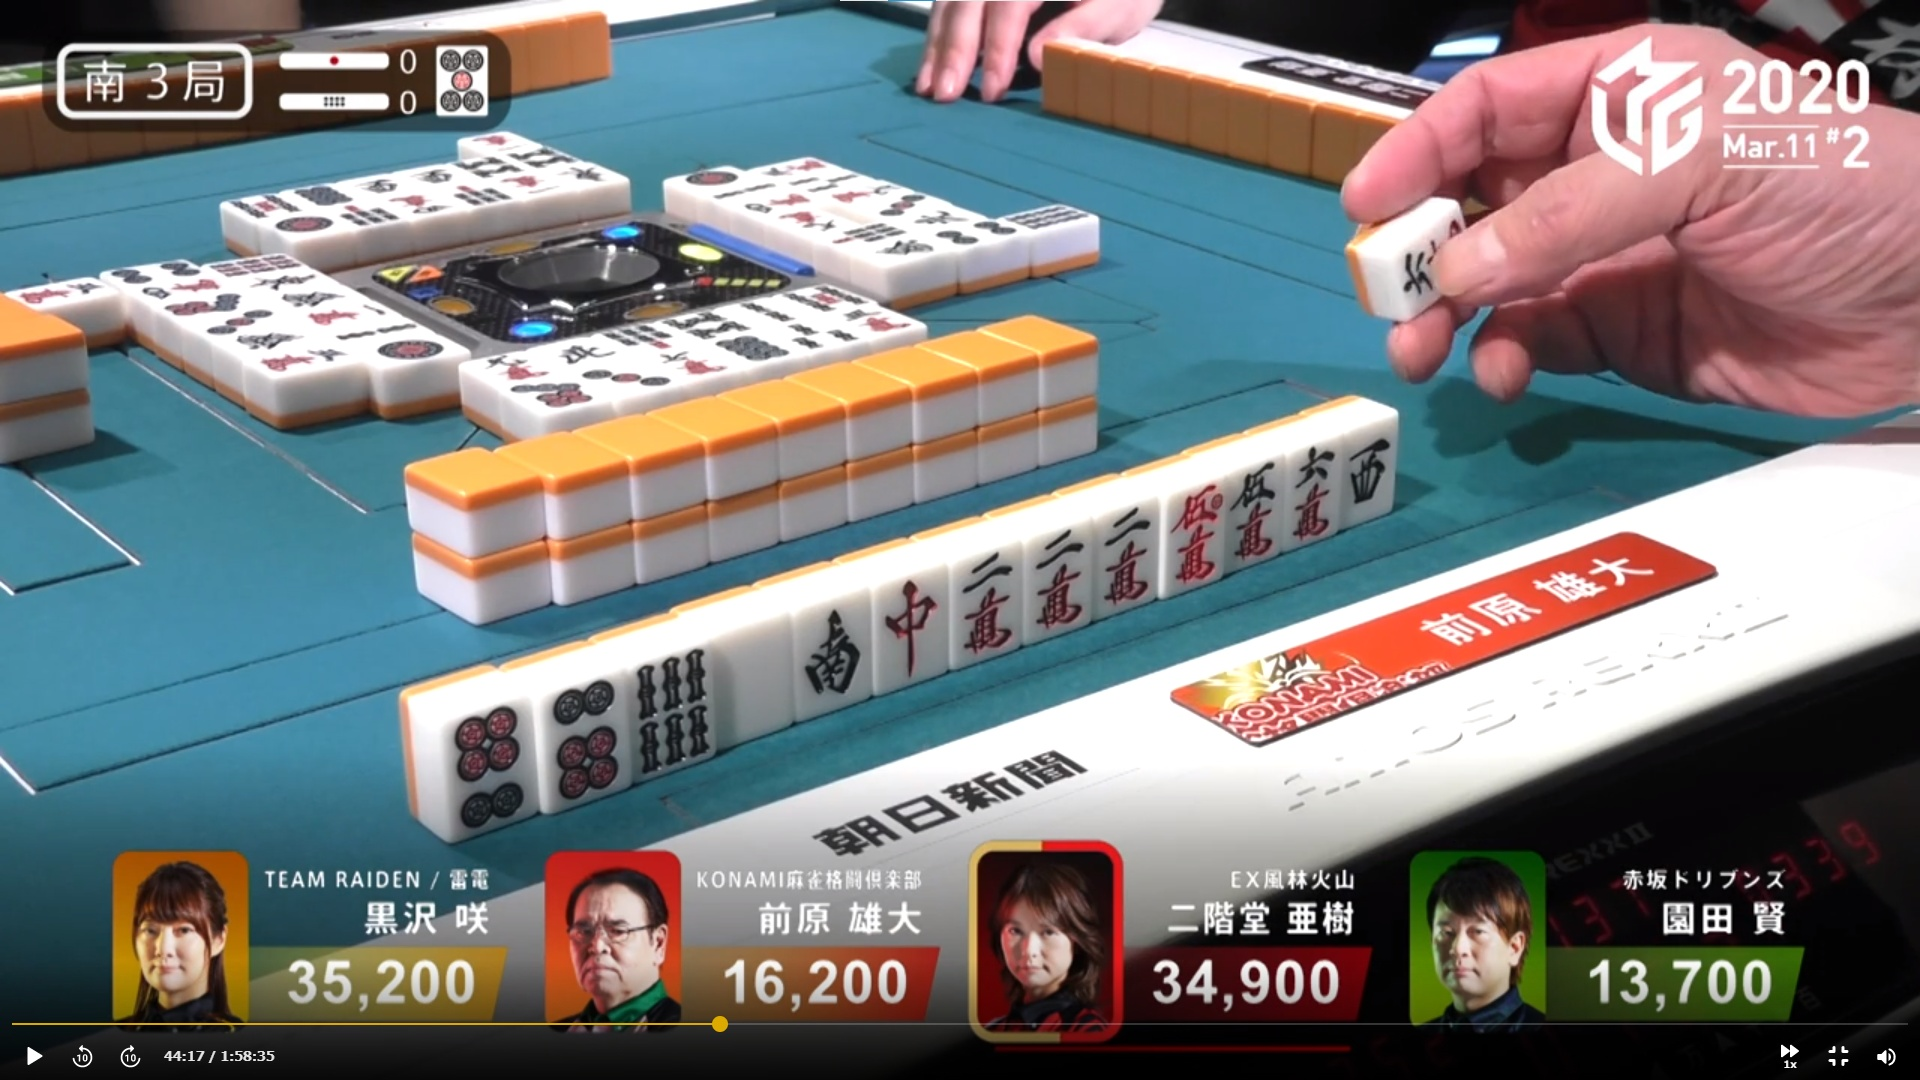2m: (949, 542, 1014, 666), (1023, 522, 1085, 637), (1089, 502, 1154, 609)
5m: (1228, 451, 1282, 571)
5mr: (1160, 479, 1218, 593)
6m: (1284, 440, 1335, 551)
6p: (438, 700, 533, 837), (542, 675, 621, 804)
6s: (622, 642, 713, 774)
chun: (876, 570, 943, 683)
haku: (707, 592, 786, 742)
hand_nan_3: (51, 40, 258, 119)
nan: (793, 593, 866, 709)
round_0: (266, 86, 419, 120)
sha: (1337, 422, 1395, 524)
team_konami: (1164, 626, 1468, 749)
